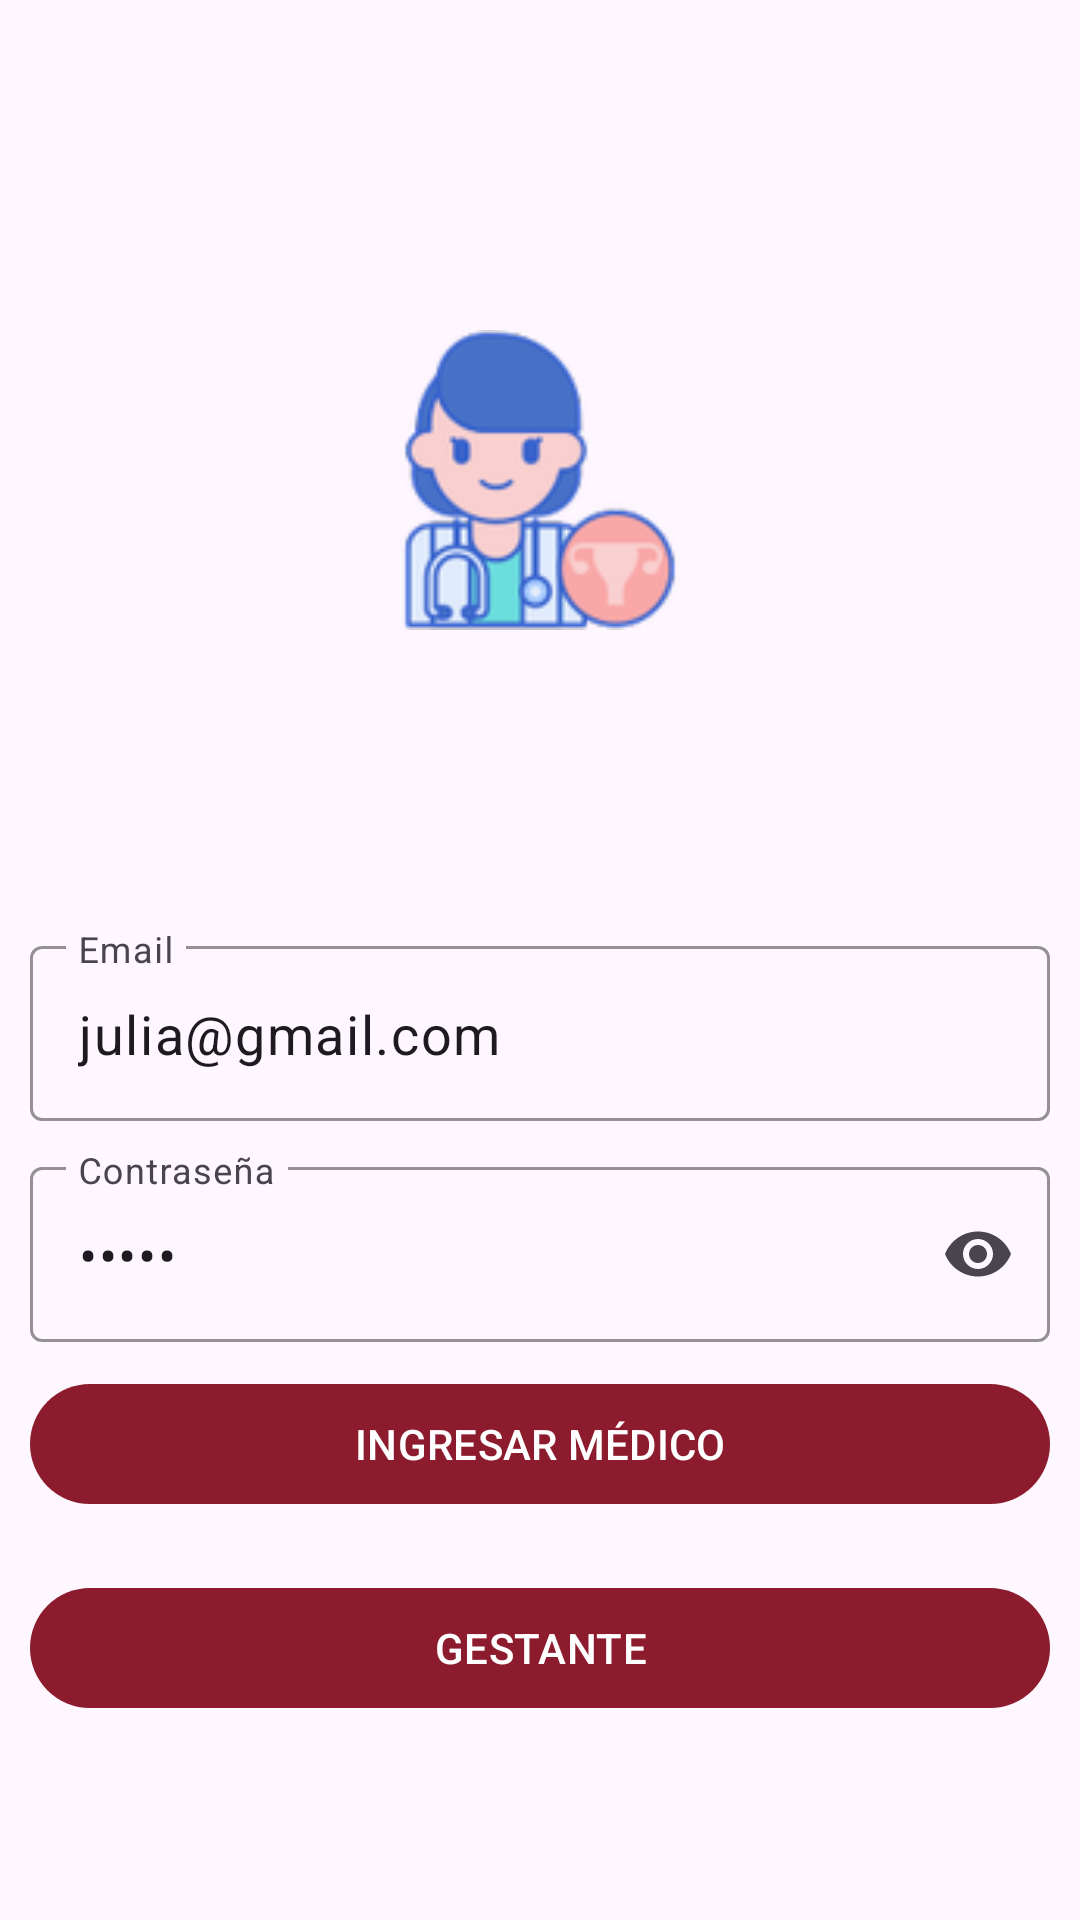

Screen size 1080x1920. Icon name, then its box in pixels as (x1, y1, x2, y2):
obstetra: (404, 330, 676, 630)
